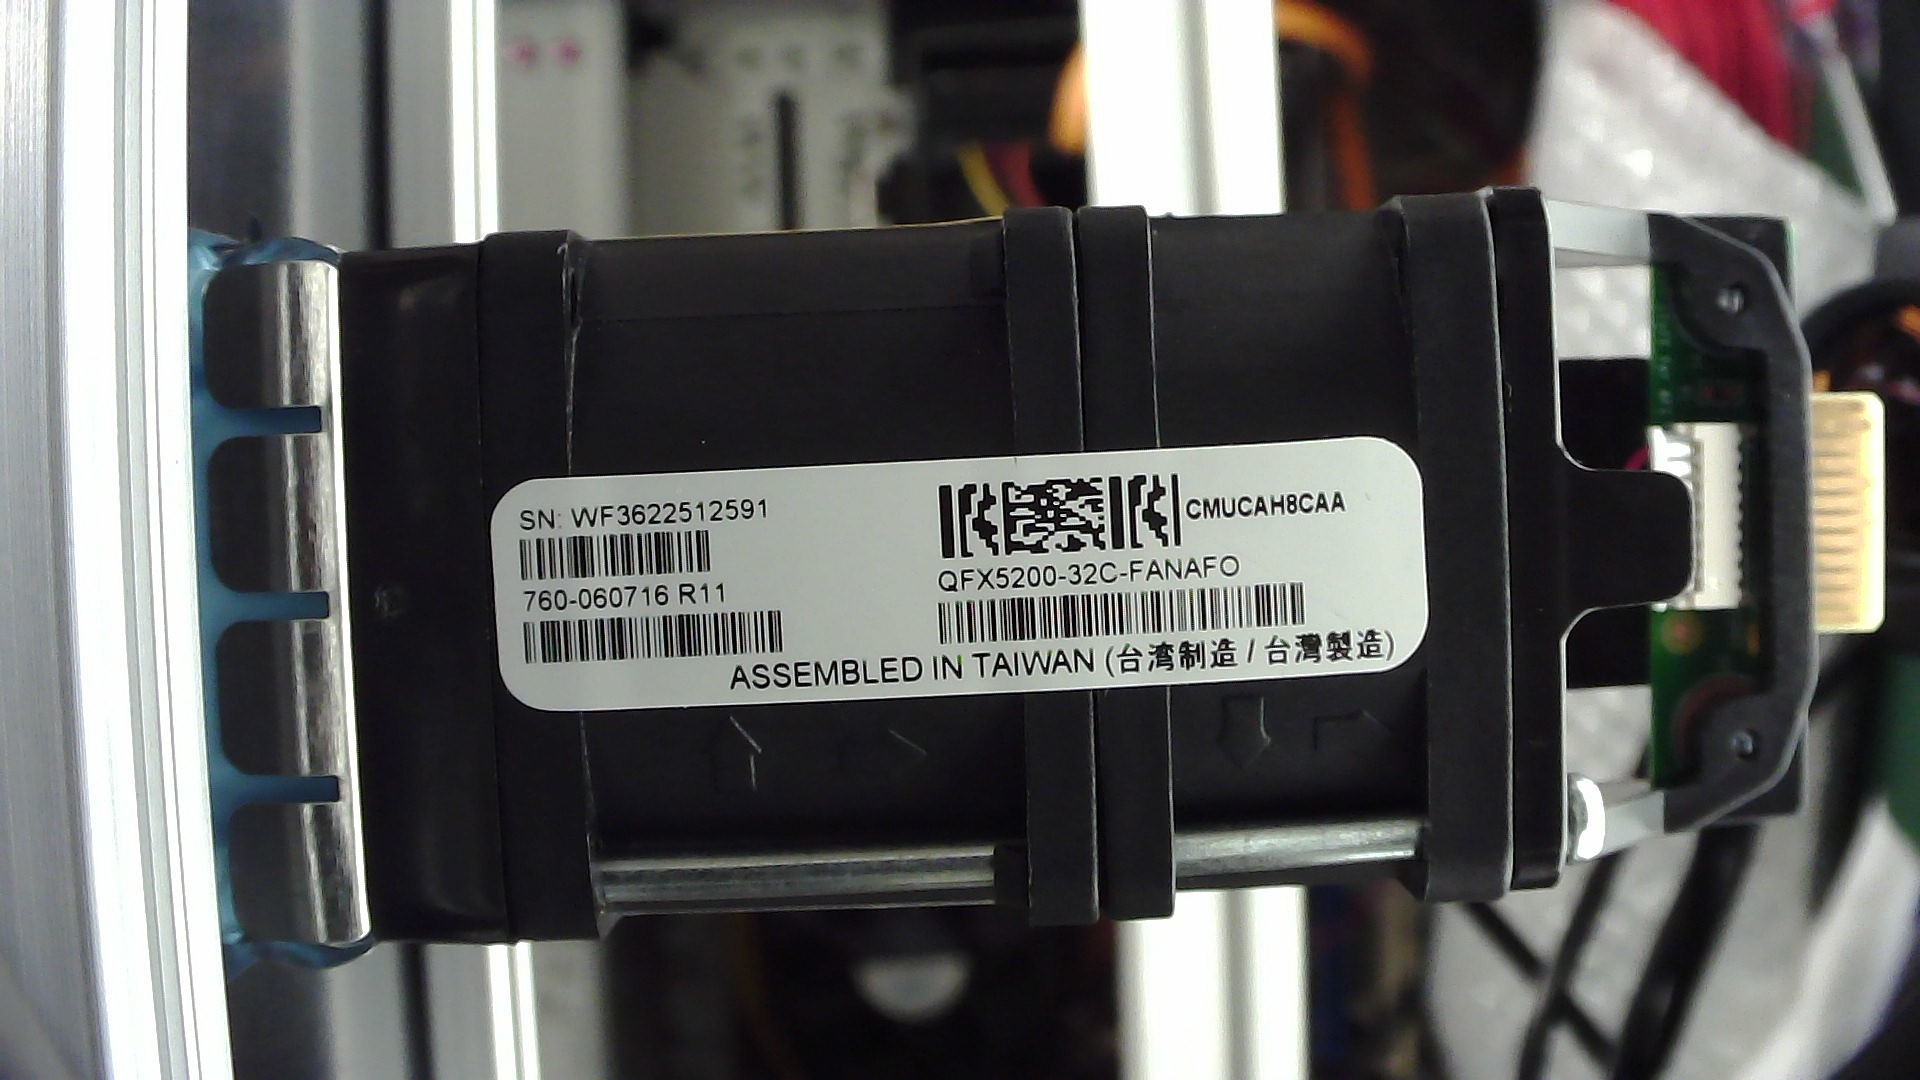6_2: (1677, 410, 1712, 620)
